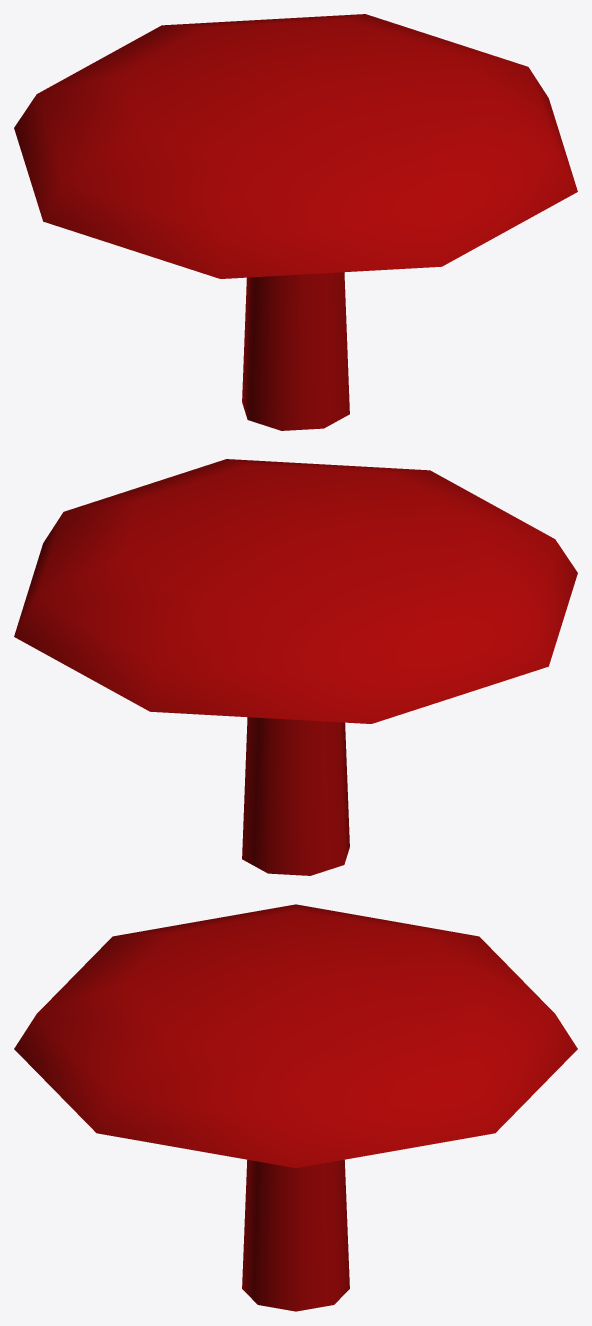
The model's file is Mushroom2_pickup.fbx.
3 renders of one model, top to bottom at view 1: azimuth 30°, elevation 25°; view 2: azimuth 150°, elevation 25°; view 3: azimuth 270°, elevation 25°, orthographic. The views are drawn at different scales.
Visible parts, largest first — view 1: pCylinder2; view 2: pCylinder2; view 3: pCylinder2.
Boxes of the visible parts, x1,y1,x2,y2 form: pCylinder2: (14, 14, 577, 430); pCylinder2: (14, 459, 577, 875); pCylinder2: (14, 904, 577, 1311).
Bounding box in the file's own units: 0.5628 × 0.3507 × 0.5628.
